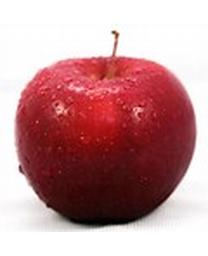apple: (14, 53, 196, 224)
